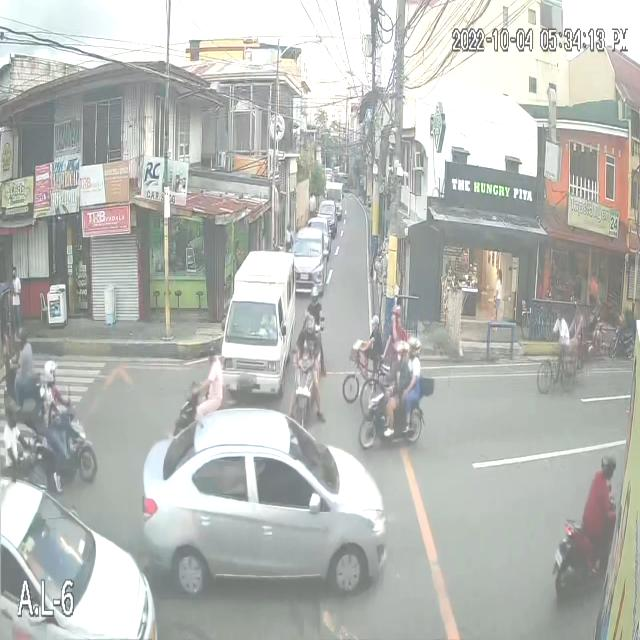Full-Faced: (598, 448, 618, 482), (41, 358, 59, 383), (404, 334, 422, 358), (302, 312, 318, 338), (395, 340, 409, 361), (309, 284, 322, 304)
Invalid: (202, 342, 218, 367)
